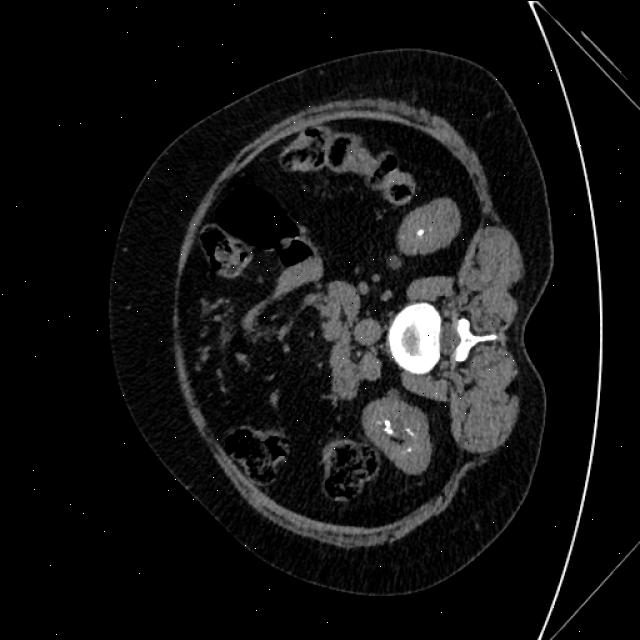kidneystone: (384, 418, 393, 434), (416, 228, 424, 236)
